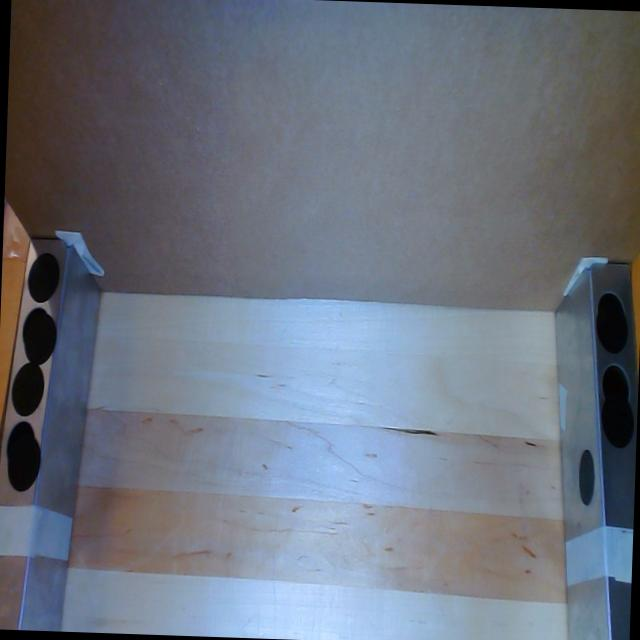Hole: (600, 363, 632, 410), (6, 420, 36, 466), (21, 307, 51, 351), (595, 292, 624, 336)
Sticker: (5, 430, 42, 493), (597, 391, 636, 447), (10, 361, 44, 416), (593, 301, 627, 353), (26, 252, 60, 304), (23, 311, 56, 363), (576, 448, 596, 508)
